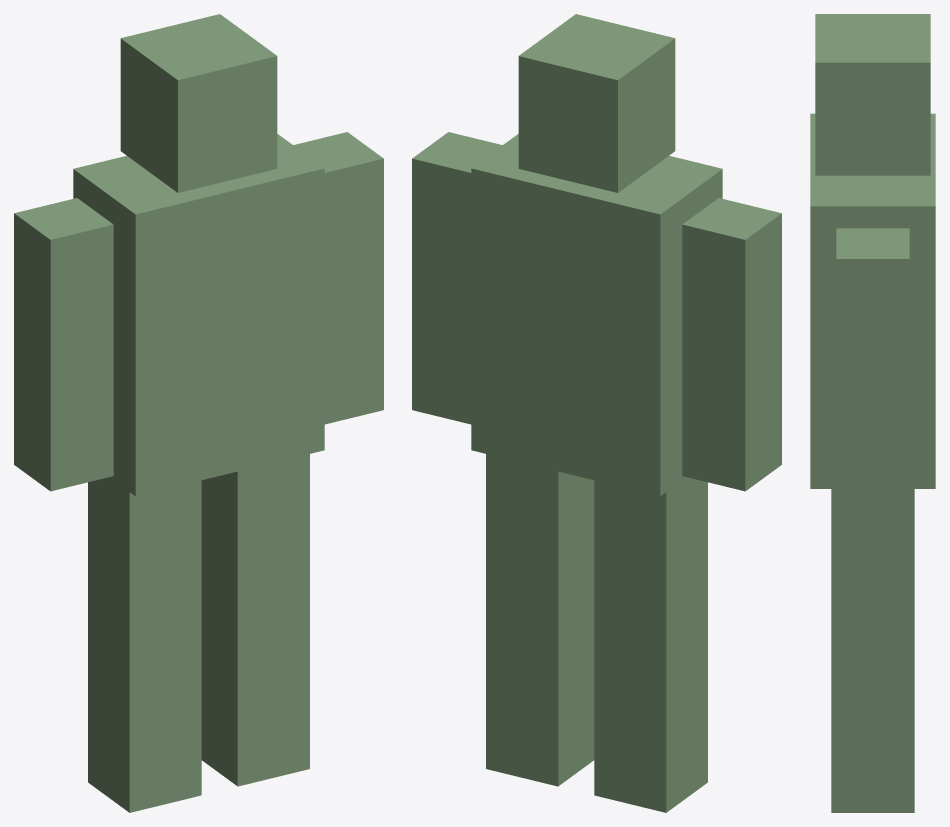
Rendered from orc.glb.
3 renders of one model, left to right at view 1: azimuth 30°, elevation 25°; view 2: azimuth 150°, elevation 25°; view 3: azimuth 270°, elevation 25°, orthographic.
Visible parts, largest first — view 1: orc; view 2: orc; view 3: orc.
Part boxes in pixels (x1=…): orc: x1=14, y1=14, x2=383, y2=812; orc: x1=412, y1=14, x2=781, y2=812; orc: x1=810, y1=14, x2=935, y2=812.
Size of the model in its own units: 0.925 by 1.93 by 0.3.
